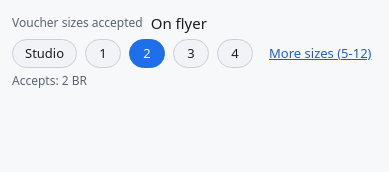
Test case: VoucherSizePicker › emptying the picker reports an empty list
Click the button "2" at (147, 53), box [129,38,165,68]
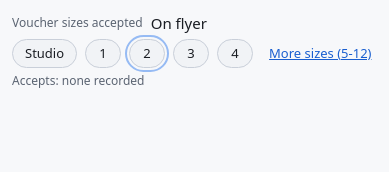
Result: the text "Accepts: none recorded" is shown at [12,72,144,89]
